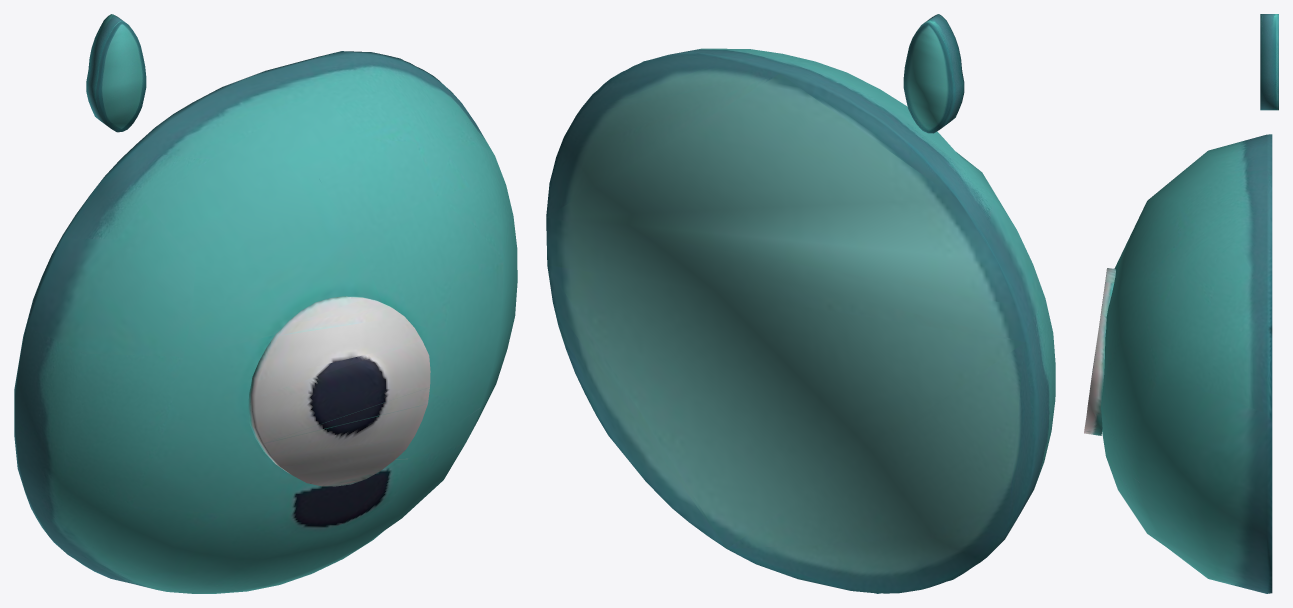
File: glorp_3d.glb
3 renders of one model, left to right at view 1: azimuth 30°, elevation 25°; view 2: azimuth 150°, elevation 25°; view 3: azimuth 270°, elevation 25°, orthographic. The views are drawn at different scales.
Visible parts, largest first — view 1: tripo_node_f86869a1-a013-4546-a9a0-849b7c5ce3c7; view 2: tripo_node_f86869a1-a013-4546-a9a0-849b7c5ce3c7; view 3: tripo_node_f86869a1-a013-4546-a9a0-849b7c5ce3c7.
Boxes of the visible parts, bbox=[...] form: tripo_node_f86869a1-a013-4546-a9a0-849b7c5ce3c7: bbox=[14, 14, 517, 593]; tripo_node_f86869a1-a013-4546-a9a0-849b7c5ce3c7: bbox=[546, 14, 1055, 593]; tripo_node_f86869a1-a013-4546-a9a0-849b7c5ce3c7: bbox=[1084, 14, 1278, 593].
Size of the model in its own units: 0.8652 by 0.998 by 0.3496.
Materials: 1 (1 with a texture image).
